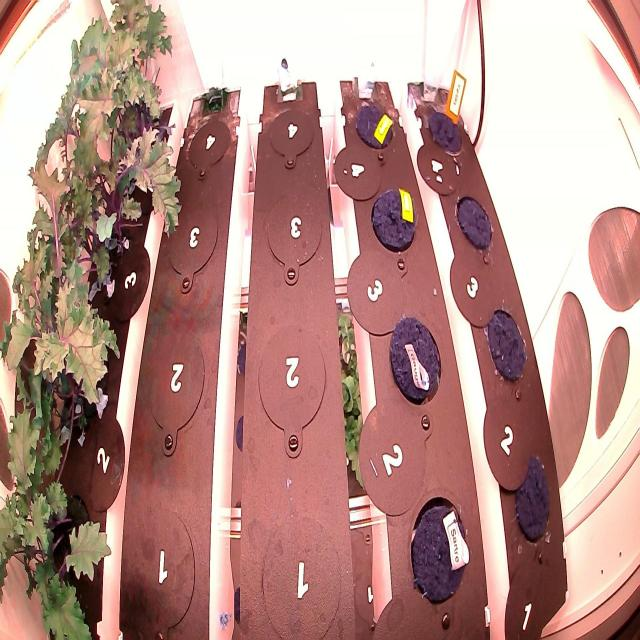empty_pod: (253, 313, 330, 464), (260, 508, 344, 637), (126, 494, 196, 636), (141, 323, 210, 447), (262, 185, 325, 287), (163, 192, 221, 298), (266, 102, 318, 176), (182, 110, 231, 183)
pod: (408, 488, 475, 607), (388, 306, 445, 410), (507, 457, 555, 548), (366, 180, 420, 259), (485, 297, 530, 387), (453, 186, 497, 258), (354, 96, 399, 156), (425, 102, 469, 162)
